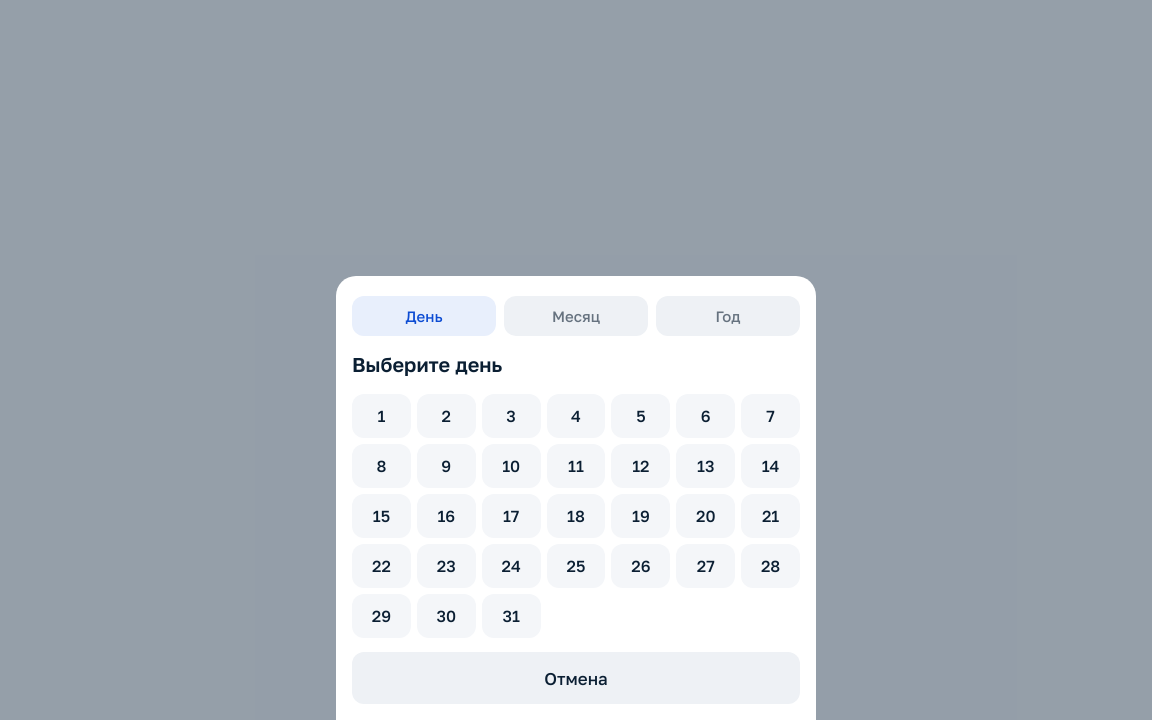
Test case: BirthdayPicker › 29 февраля доступно только в високосные годы
This screenshot has width=1152, height=720.
Step 1. Click the button "29" → coordinates (381, 616), box [352, 594, 411, 638]
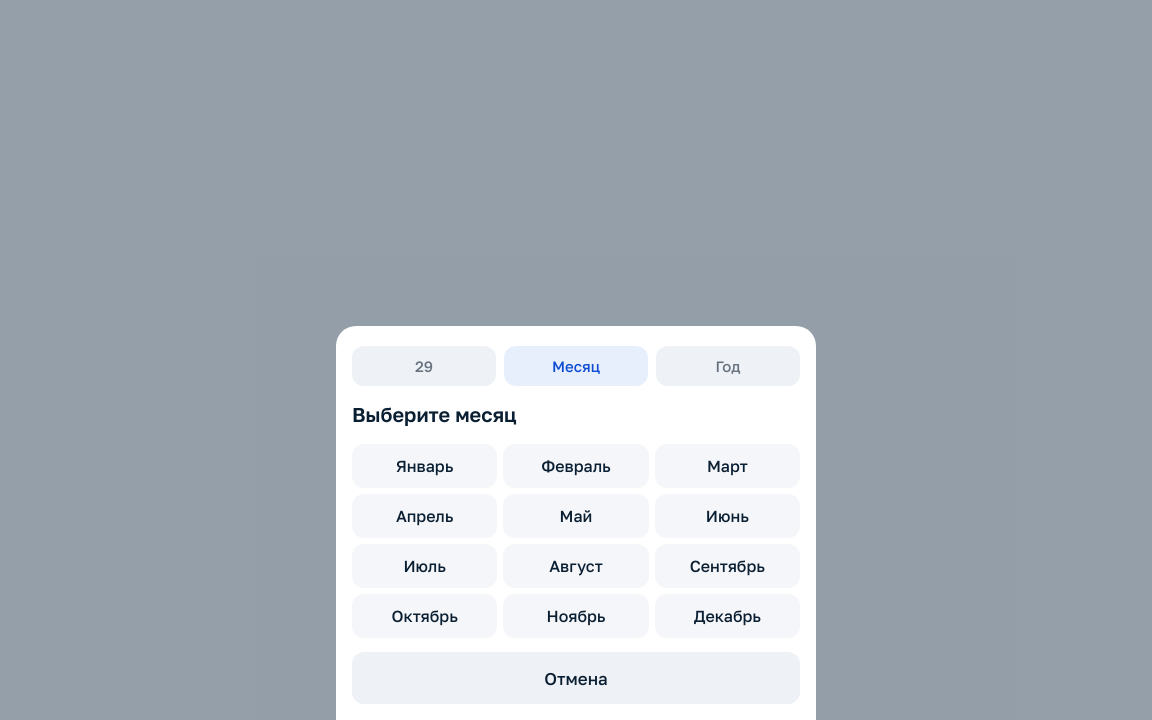
Step 2. Click the button "Февраль" → coordinates (576, 466), box [503, 444, 649, 488]
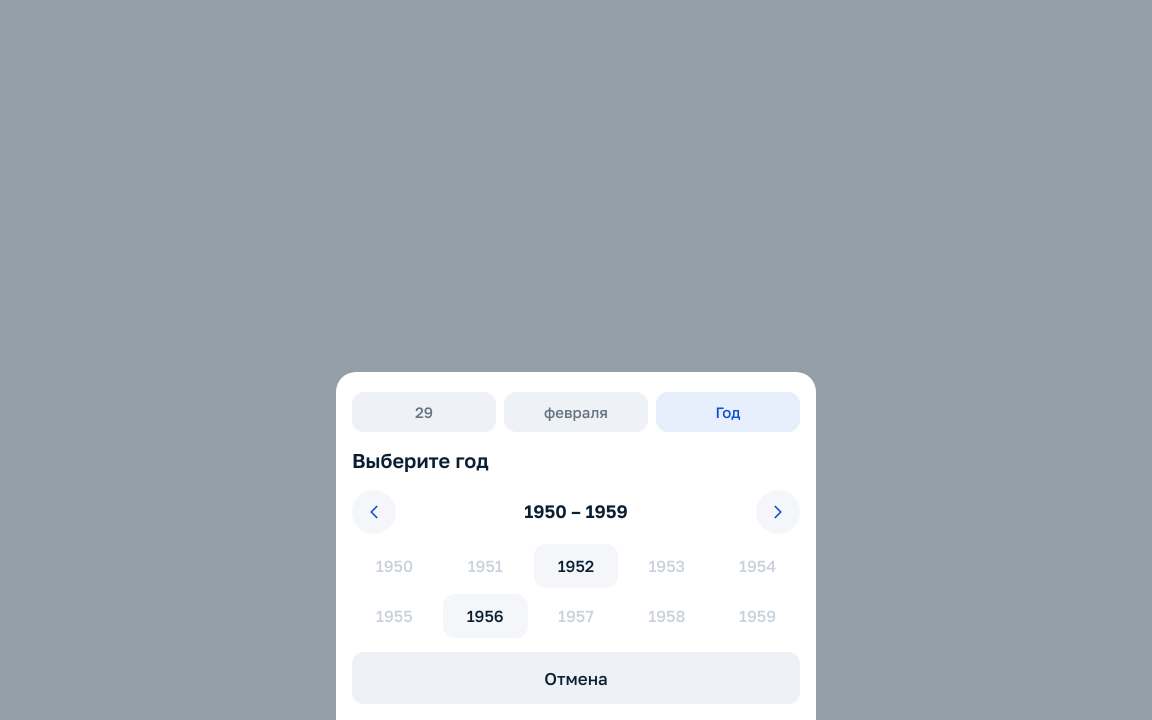
Step 3. Click the button named "Позже" → coordinates (778, 512), box [756, 490, 800, 534]
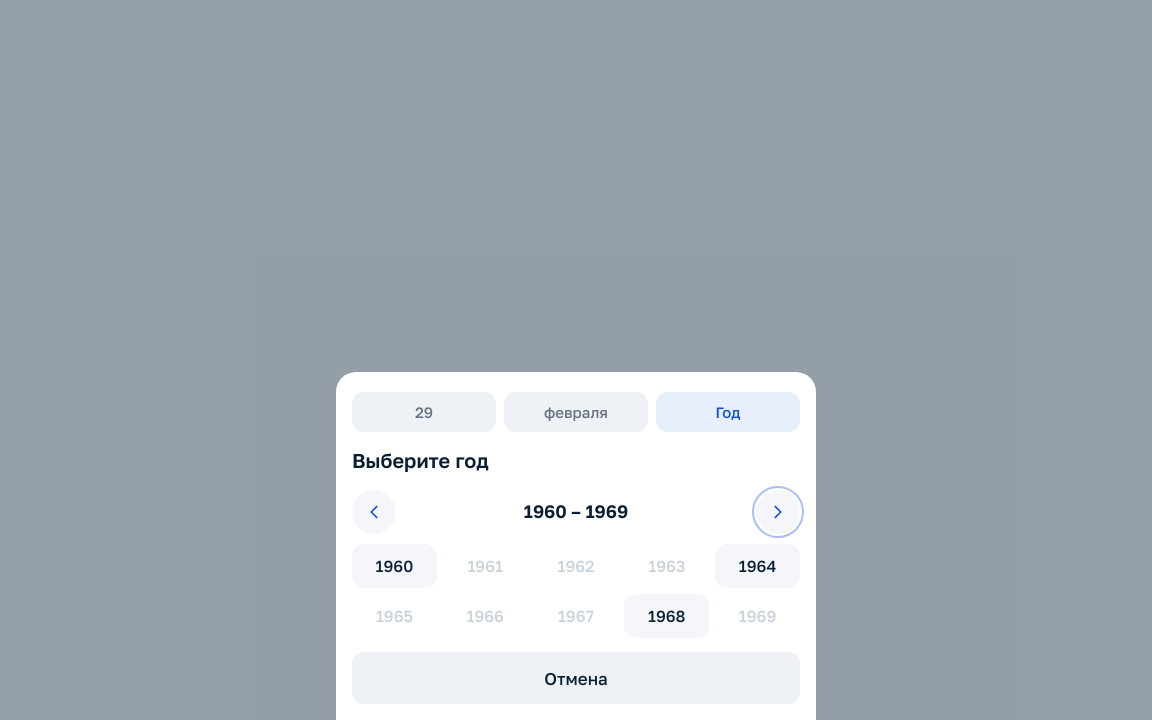
expect the button "1961" is disabled: met, box [443, 544, 528, 588]
expect the button "1960" is enabled: met, box [352, 544, 437, 588]
expect the button "1964" is enabled: met, box [715, 544, 800, 588]
